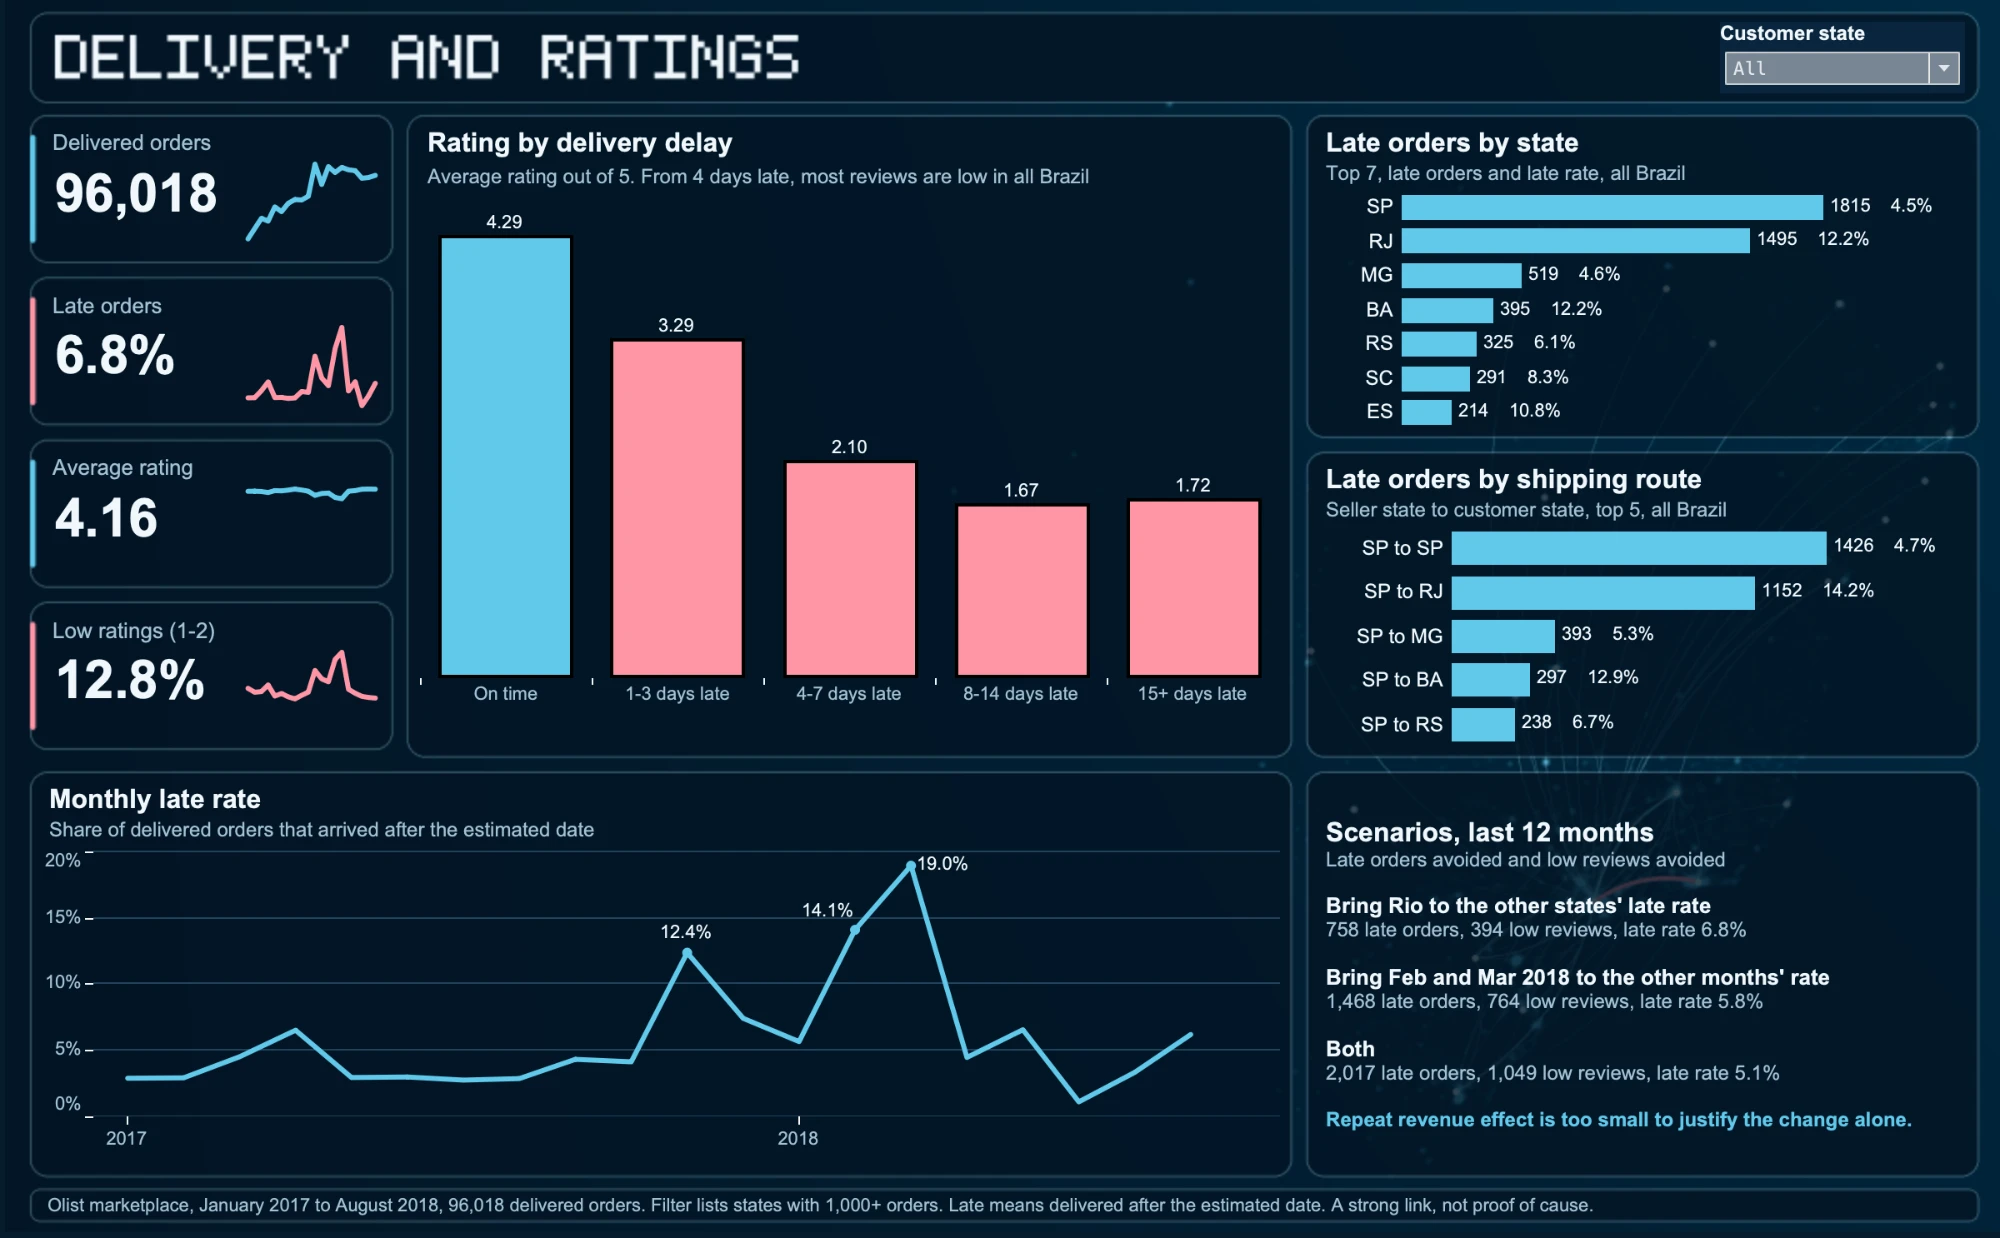

What the dashboard file says about the page in this screenshot:
{"tool":"tableau","page":{"name":"Delivery and Ratings","canvas":[1200,742],"ordinal":0},"visuals":[{"type":"image","param":"Image/dashboard_bg.png","box":[0,0,1200,742]},{"type":"parameter","param":"[Parameters].[Parameter 1]","box":[1029,16.5,147,43.5]},{"type":"text","box":[250.5,77.9,510,22.5]},{"type":"text","box":[790.5,77.9,386.3,22.5]},{"type":"text","box":[25.5,79.4,199.5,19.5]},{"type":"worksheet","title":"L Orders","mark":"Line","rows":["Calculation_4001"],"cols":["xmonth"],"box":[139.5,97.4,87,54]},{"type":"text","box":[790.5,98.9,386.3,16.5]},{"type":"text","box":[250.5,100.4,510,18]},{"type":"worksheet","title":"V Orders","mark":"Automatic","box":[25.5,101.9,112.5,49.5]},{"type":"worksheet","title":"Late by State","mark":"Bar","rows":["customer_state"],"cols":["Calculation_4010"],"box":[787.5,116.9,391.5,143.9]},{"type":"worksheet","title":"Rating by Delay","mark":"Bar","rows":["Calculation_4005"],"cols":["delay_level"],"box":[249,119.9,516,329.8]},{"type":"text","box":[25.5,176.9,199.5,19.5]},{"type":"worksheet","title":"L Late","mark":"Line","rows":["Calculation_4008"],"cols":["xmonth"],"box":[139.5,194.9,87,54]},{"type":"worksheet","title":"V Late","mark":"Automatic","box":[25.5,199.4,112.5,49.5]},{"type":"text","box":[25.5,274.3,199.5,19.5]},{"type":"text","box":[790.5,280.3,386.3,22.5]},{"type":"worksheet","title":"L Rating","mark":"Line","rows":["Calculation_4005"],"cols":["xmonth"],"box":[139.5,292.3,87,54]},{"type":"worksheet","title":"V Rating","mark":"Automatic","box":[25.5,296.8,112.5,49.5]},{"type":"text","box":[790.5,301.3,386.3,16.5]},{"type":"worksheet","title":"Late by Route","mark":"Bar","rows":["route"],"cols":["Calculation_4010"],"box":[787.5,319.3,391.5,131.9]},{"type":"text","box":[25.5,371.7,199.5,19.5]},{"type":"worksheet","title":"L Low","mark":"Line","rows":["Calculation_4007"],"cols":["xmonth"],"box":[139.5,389.7,87,54]},{"type":"worksheet","title":"V Low","mark":"Automatic","box":[25.5,394.2,112.5,49.5]},{"type":"text","box":[24,472.2,735,22.5]},{"type":"text","box":[790.5,473.7,386.3,229.3]},{"type":"text","box":[24,493.2,735,16.5]},{"type":"worksheet","title":"Monthly Late Rate","mark":"Line","rows":["Calculation_4008"],"cols":["xmonth"],"box":[22.5,512.7,742.5,190.4]},{"type":"text","box":[22.5,715.8,1155,21]}]}

Visuals, with their boxes in screenshot pixels (x1, y1, x2, y2), scaled from the page's 1200x742 canvas onto the 2000x1238 screenshot:
image: [0, 0, 1999, 1237]
parameter: [1715, 28, 1960, 100]
text: [418, 130, 1268, 168]
text: [1318, 130, 1961, 168]
text: [42, 132, 375, 165]
"L Orders" worksheet (Line marks): [232, 163, 378, 253]
text: [1318, 165, 1961, 193]
text: [418, 168, 1268, 198]
"V Orders" worksheet: [42, 170, 230, 253]
"Late by State" worksheet (Bar marks): [1312, 195, 1965, 435]
"Rating by Delay" worksheet (Bar marks): [415, 200, 1275, 750]
text: [42, 295, 375, 328]
"L Late" worksheet (Line marks): [232, 325, 378, 415]
"V Late" worksheet: [42, 333, 230, 415]
text: [42, 458, 375, 490]
text: [1318, 468, 1961, 505]
"L Rating" worksheet (Line marks): [232, 488, 378, 578]
"V Rating" worksheet: [42, 495, 230, 578]
text: [1318, 503, 1961, 530]
"Late by Route" worksheet (Bar marks): [1312, 533, 1965, 753]
text: [42, 620, 375, 653]
"L Low" worksheet (Line marks): [232, 650, 378, 740]
"V Low" worksheet: [42, 658, 230, 740]
text: [40, 788, 1265, 825]
text: [1318, 790, 1961, 1173]
text: [40, 823, 1265, 850]
"Monthly Late Rate" worksheet (Line marks): [38, 855, 1275, 1173]
text: [38, 1194, 1962, 1229]
